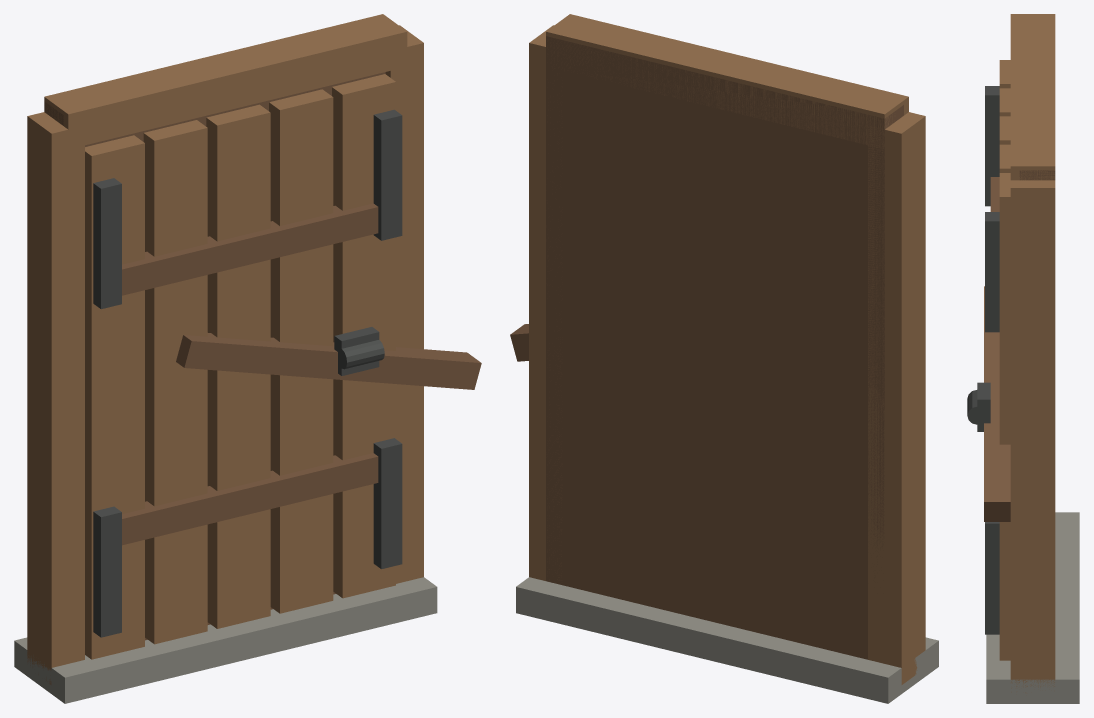
The model's file is door_detail.glb.
3 renders of one model, left to right at view 1: azimuth 30°, elevation 25°; view 2: azimuth 150°, elevation 25°; view 3: azimuth 270°, elevation 25°, orthographic. The views are drawn at different scales.
Parts seen in each view (by area): view 1: door_detail_1, door_detail_5, door_detail_7, door_detail_6, door_detail_4, door_detail_8, door_detail_3, door_detail_18, door_detail_2, door_detail_11, door_detail_10, door_detail_9 (+7 smaller); view 2: door_detail_0, door_detail_1, door_detail_18, door_detail_3, door_detail_2; view 3: door_detail_2, door_detail_3, door_detail_18, door_detail_8, door_detail_11, door_detail_15, door_detail_14, door_detail_13, door_detail_16, door_detail_0, door_detail_17, door_detail_10 (+4 smaller).
Boxes of the visible parts, x1,y1,x2,y2 form: door_detail_1: (27,112,84,684); door_detail_5: (143,120,207,644); door_detail_7: (269,89,333,613); door_detail_6: (206,104,270,628); door_detail_4: (85,135,144,659); door_detail_8: (332,74,395,598); door_detail_3: (44,14,407,148); door_detail_18: (14,577,437,703); door_detail_2: (385,25,423,583); door_detail_11: (176,333,481,389); door_detail_10: (122,203,378,295); door_detail_9: (122,453,378,545); door_detail_0: (546,36,903,659); door_detail_1: (868,112,925,684); door_detail_18: (516,577,938,703); door_detail_3: (546,14,908,148); door_detail_2: (529,25,562,581); door_detail_2: (1010,180,1055,692); door_detail_3: (1010,14,1055,180); door_detail_18: (986,512,1079,703); door_detail_8: (999,173,1010,660); door_detail_11: (984,286,1010,521); door_detail_15: (985,212,999,332); door_detail_14: (985,522,999,634); door_detail_13: (985,86,999,206); door_detail_16: (977,382,990,431); door_detail_0: (1019,170,1055,180); door_detail_17: (967,390,986,424); door_detail_10: (990,177,999,211).
Bounding box in the file's own units: 1.99 × 2.64 × 0.505.
